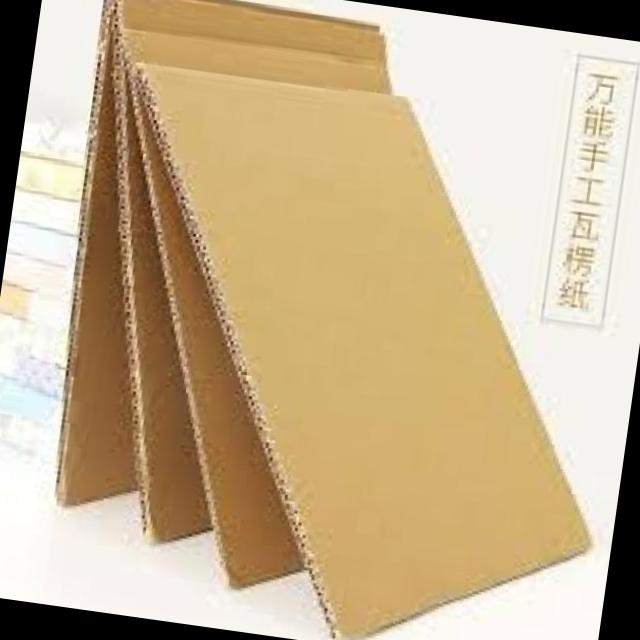cardboard paper: (56, 0, 587, 635)
